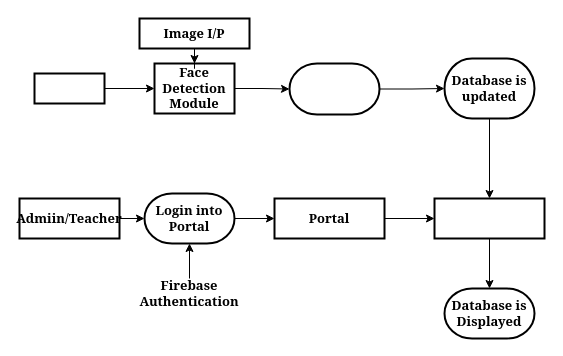
This 563x356 diagram has some shape labels left out. Here are the shapes that lost their labels. From the top down, the centre of each, then its label:
(69,88): Camera
(334,88): Module detects face
(489,218): Database
